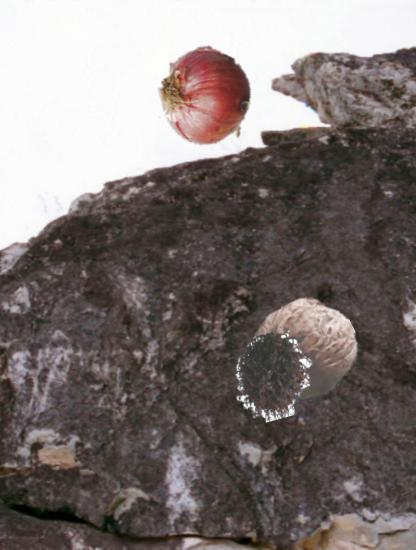Onion: (145, 39, 256, 150)
Rambutan: (230, 333, 317, 420)
Walnut: (254, 297, 359, 402)
